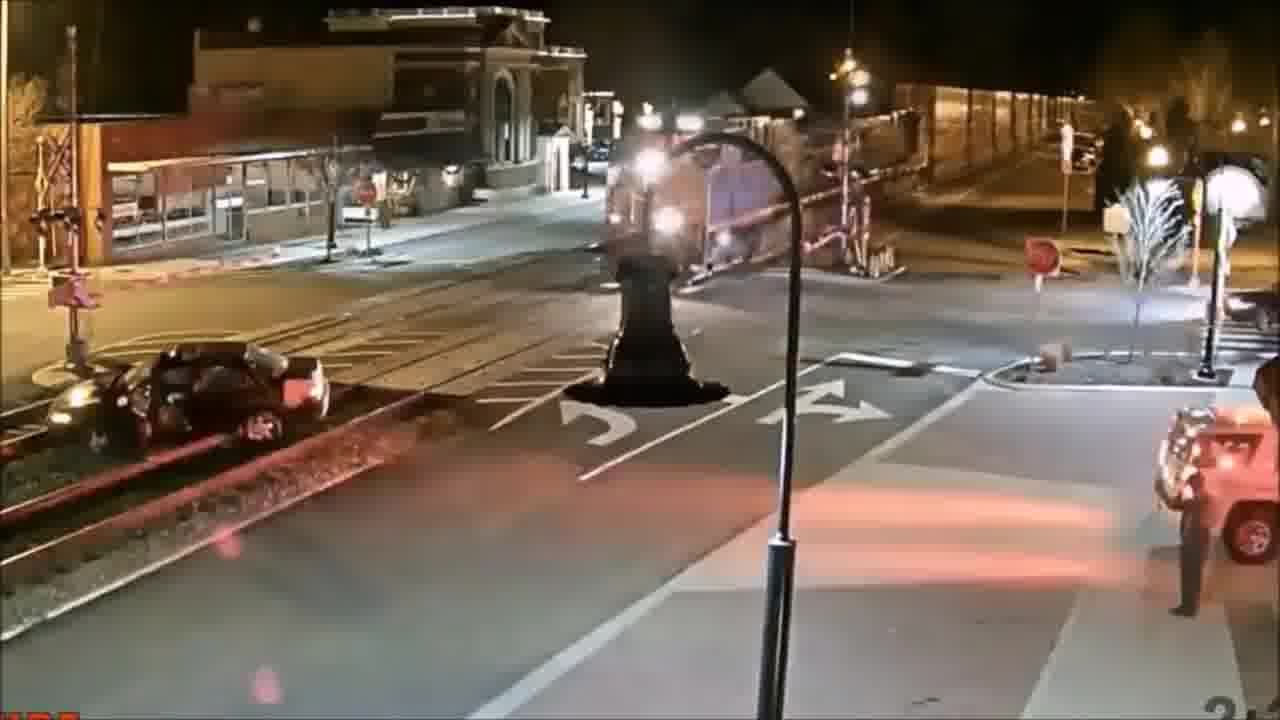crossing railway track: (26, 331, 361, 472)
